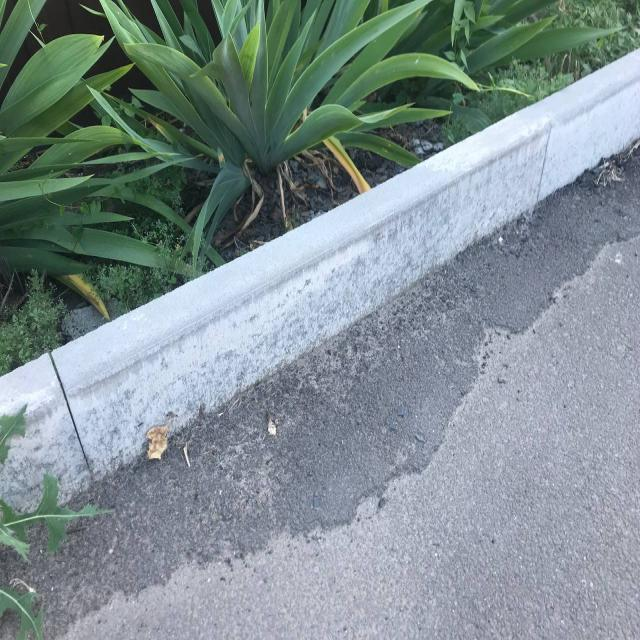bump: (86, 217, 382, 453), (291, 150, 493, 312)
